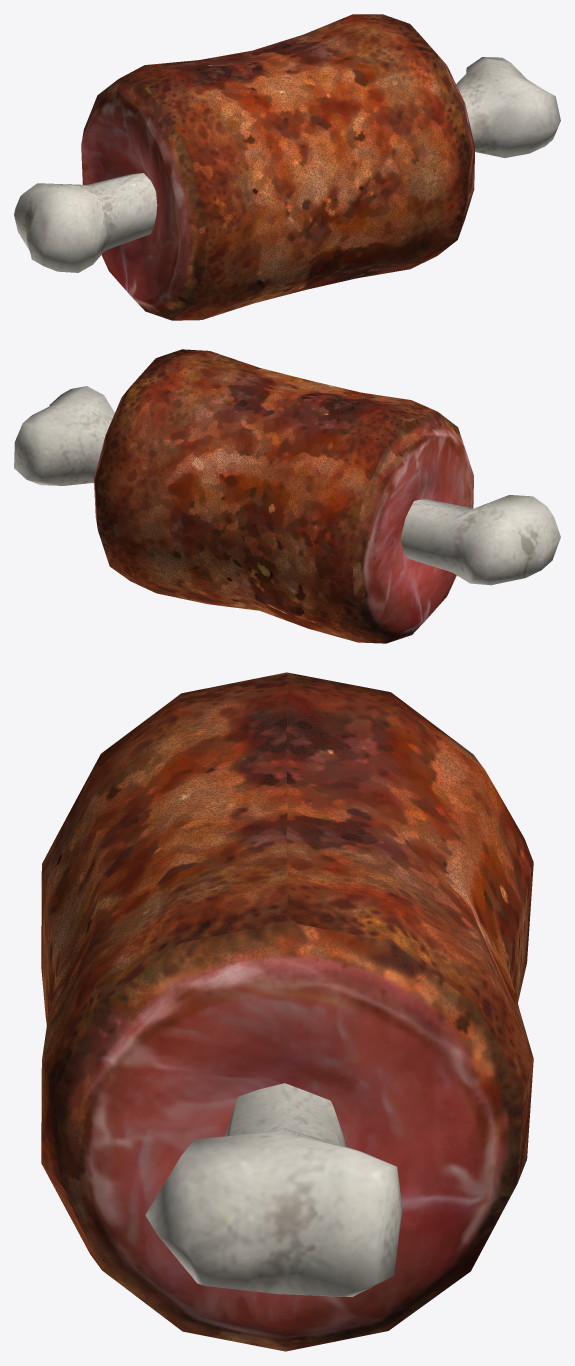
Rendered from asset.glb.
3 views of the same model, one above another, from view 1: azimuth 30°, elevation 25°; view 2: azimuth 150°, elevation 25°; view 3: azimuth 270°, elevation 25° (orthographic). The views are drawn at different scales.
Visible parts, largest first — view 1: meat, bone; view 2: meat, bone; view 3: meat, bone.
Boxes of the visible parts, x1=… form: meat: x1=81, y1=14, x2=474, y2=320; bone: x1=14, y1=57, x2=560, y2=272; meat: x1=94, y1=349, x2=473, y2=643; bone: x1=14, y1=386, x2=560, y2=585; meat: x1=41, y1=672, x2=533, y2=1351; bone: x1=145, y1=1083, x2=402, y2=1296.
Size of the model in its own units: 0.346 by 0.1483 by 0.1467.
Materials: 1 (1 with a texture image).
